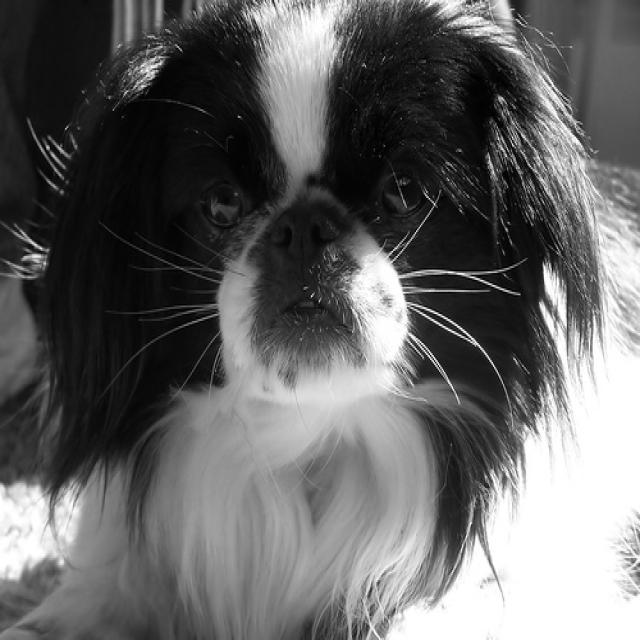dog-japanese_chin: (1, 2, 637, 637)
